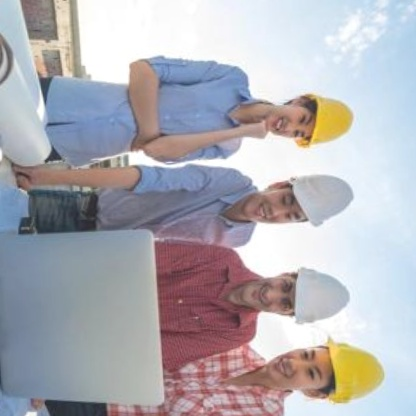white: (280, 259, 358, 329), (284, 168, 359, 234)
yellow: (311, 333, 391, 416), (285, 81, 362, 157)
